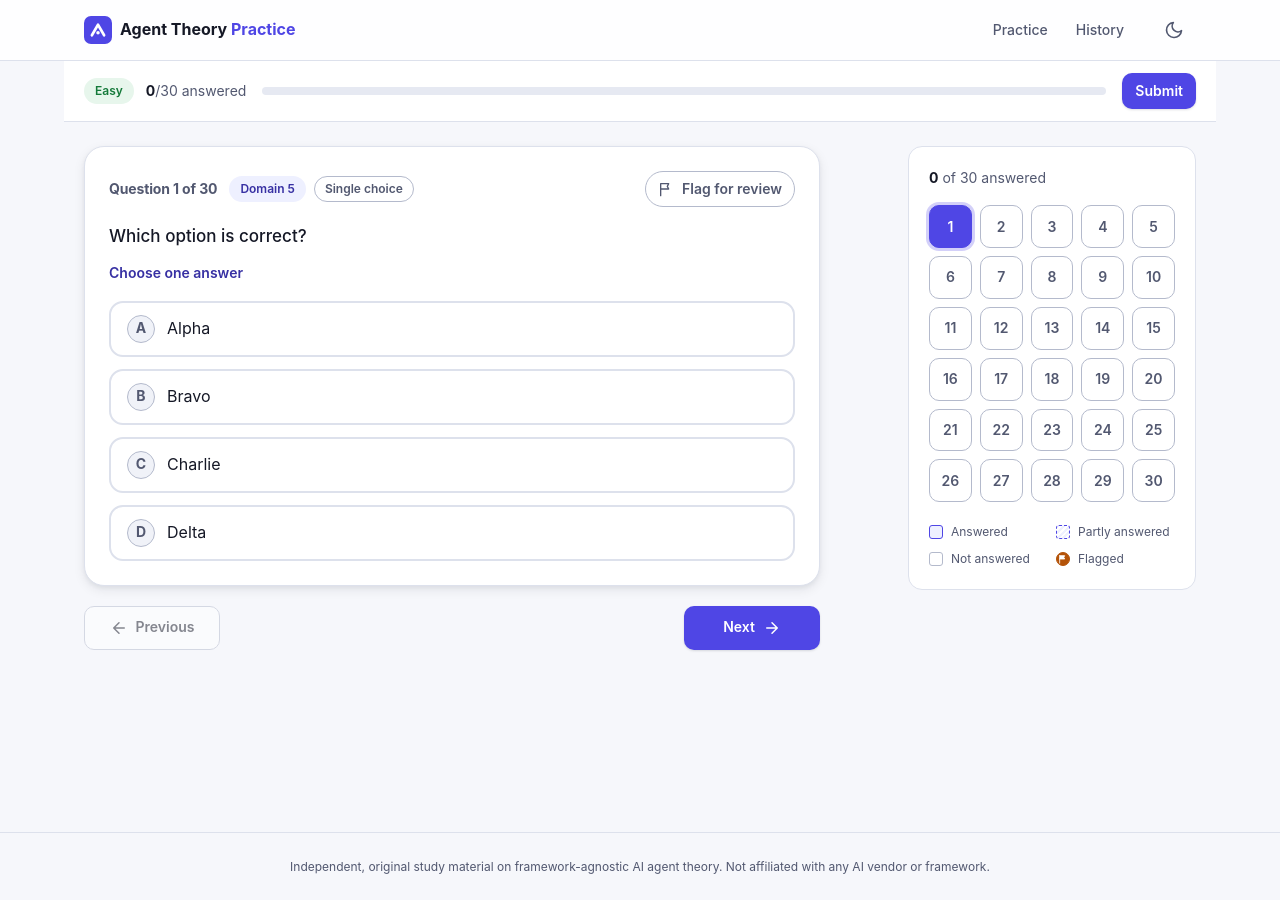
Test: ExamPage › moves between questions with Previous/Next and the navigator
Check: the heading "Question 1 of 30" is shown, box [109,180,217,198]
Check: the button "Previous" is disabled, box [84,606,220,650]
Click the button "Next": (752, 628) [684,606,820,650]
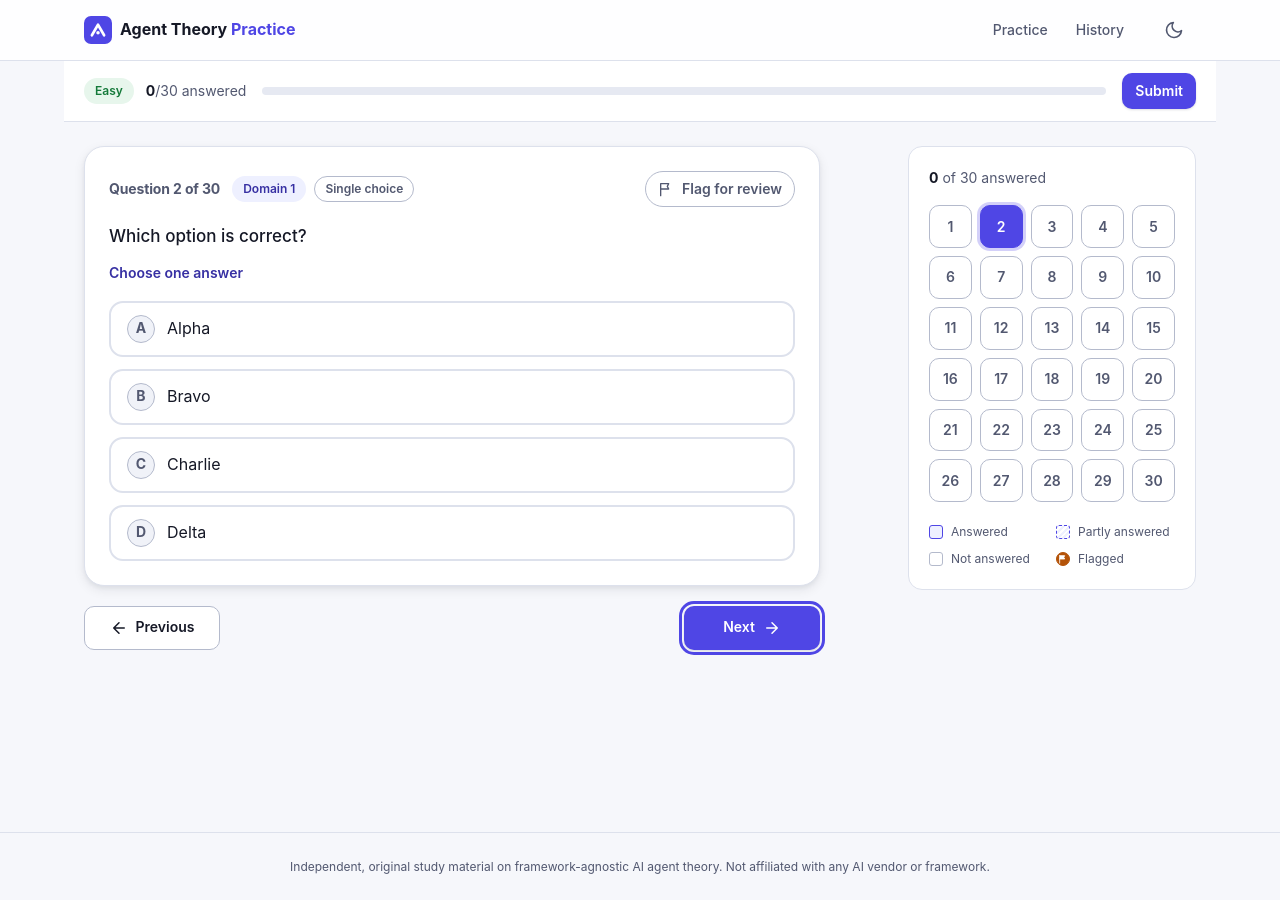
Click the button named "question 30,": (1154, 481) [1132,459,1175,502]
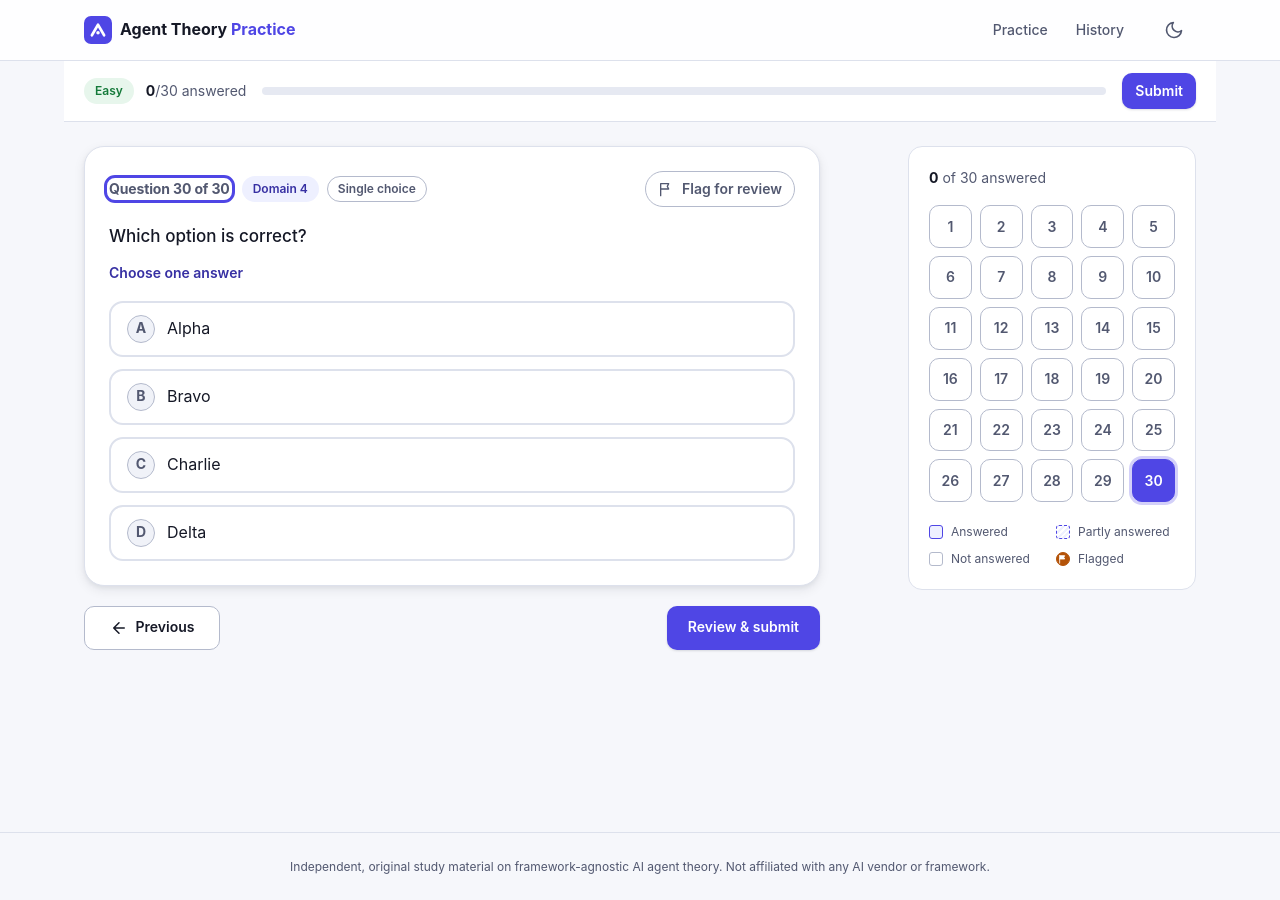
Check: the button "Review & submit" is shown, box [667,606,820,650]
